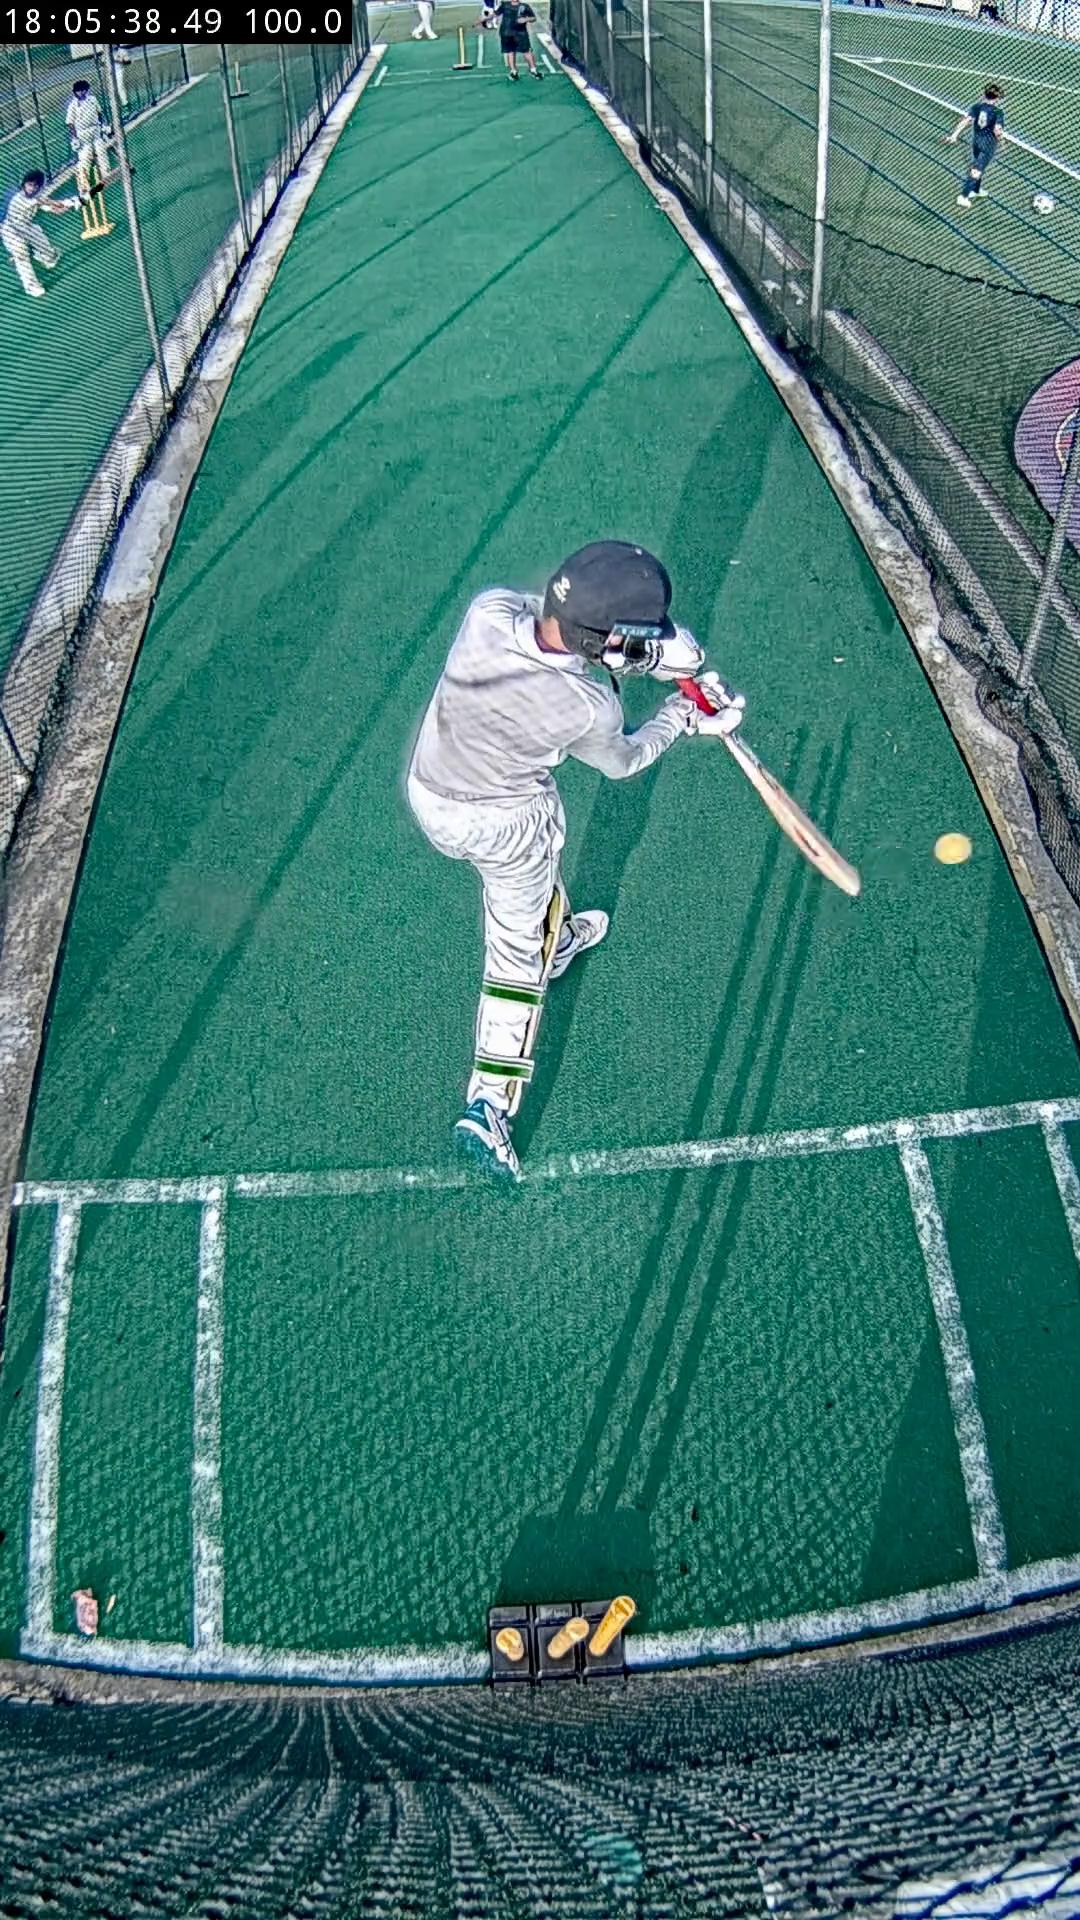ball: (934, 832, 972, 866)
bat: (724, 735, 862, 897)
gloves: (667, 671, 746, 735), (653, 626, 705, 683)
helmet: (543, 541, 671, 673)
pads: (543, 889, 566, 977)
stumps: (488, 1594, 637, 1681)
